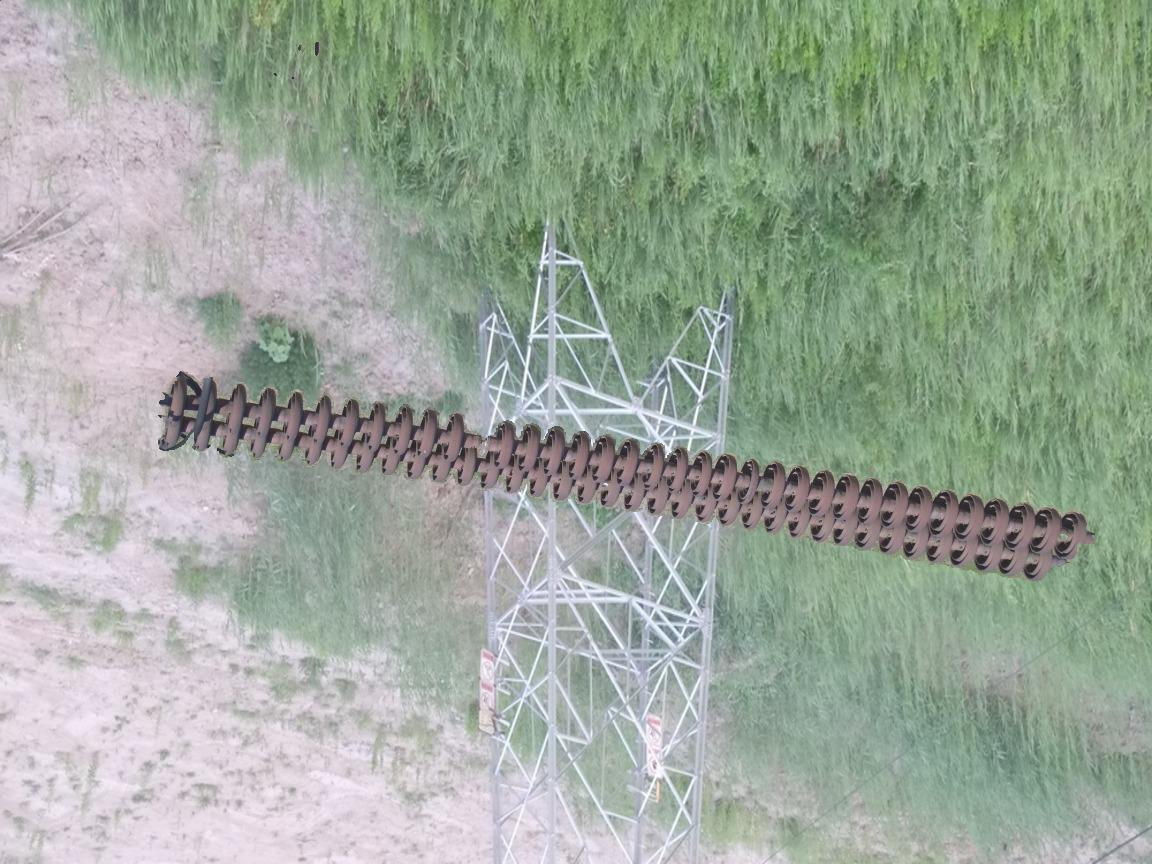insulator: (158, 371, 1098, 584)
insulator_stringdrop: (438, 409, 519, 472)
